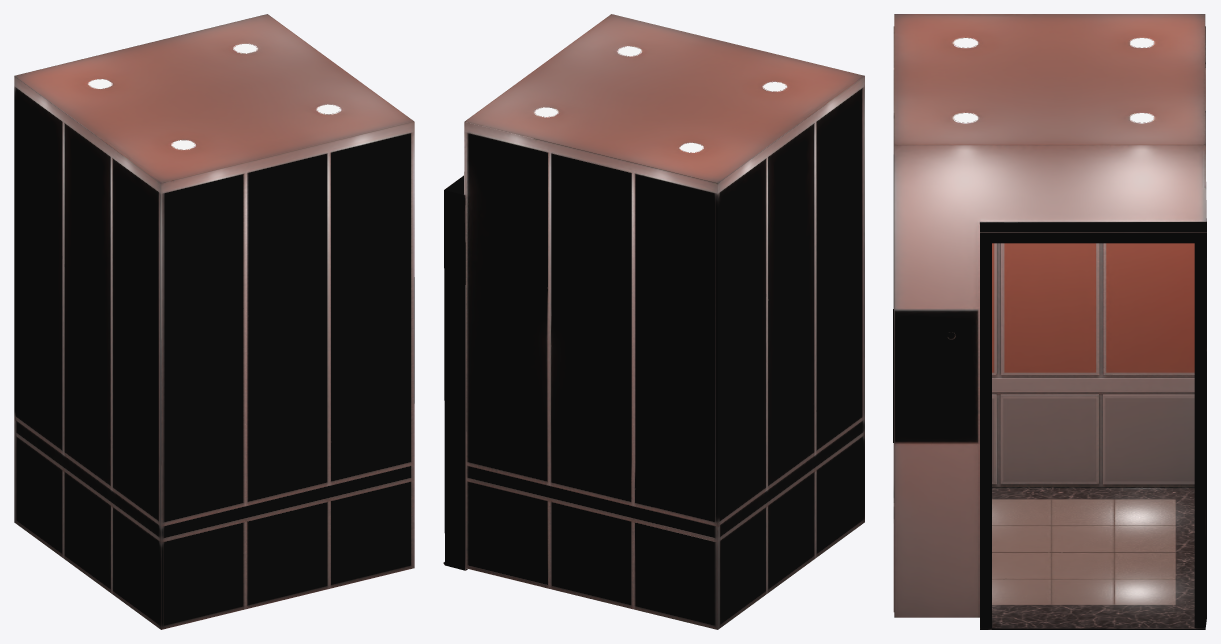
The model's file is elevator.glb.
3 views of the same model, side by side, from view 1: azimuth 30°, elevation 25°; view 2: azimuth 150°, elevation 25°; view 3: azimuth 270°, elevation 25° (orthographic). The views are drawn at different scales.
Parts seen in each view (by area): view 1: elevator2; view 2: elevator2; view 3: elevator2.
Part boxes in pixels (left/top/right/bottom): elevator2: left=14, top=14, right=414, bottom=629; elevator2: left=443, top=14, right=864, bottom=629; elevator2: left=893, top=14, right=1206, bottom=629.
Bounding box in the file's own units: 1.77 × 2.76 × 1.65.
Materials: 1 (1 with a texture image).
